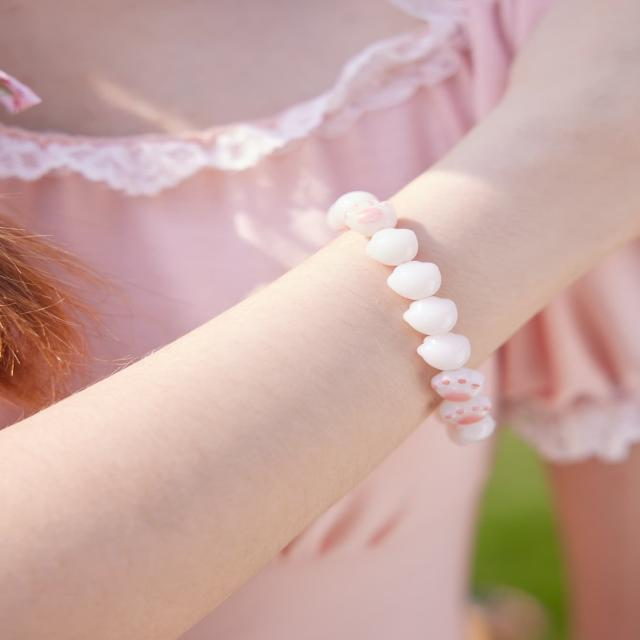bracelet: (220, 111, 573, 545)
